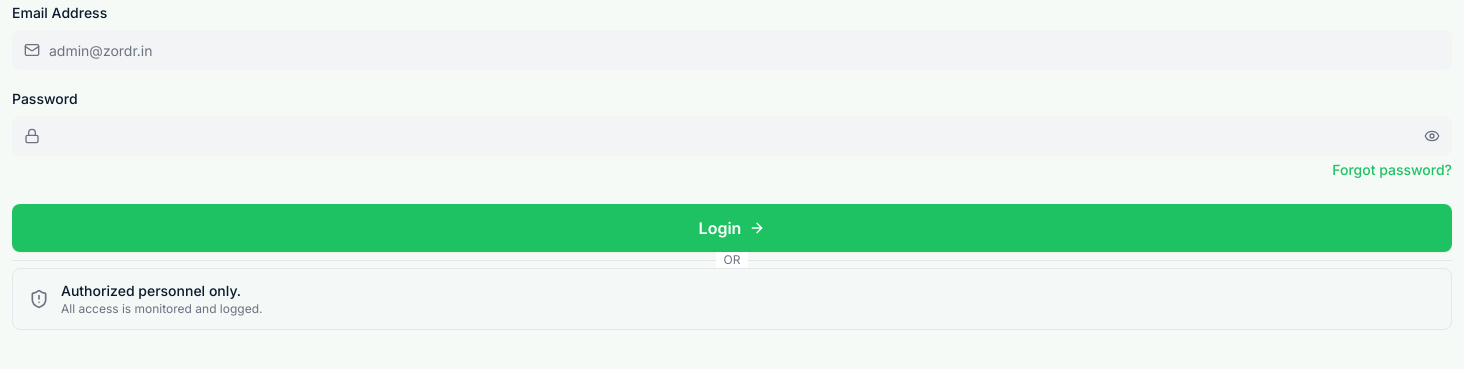
LoginForm › Validation errors › shows invalid email error for malformed email
Type "notanemail" into the field labelled "Email Address". click: {"x": 732, "y": 50}
box: [12,30,1452,70]
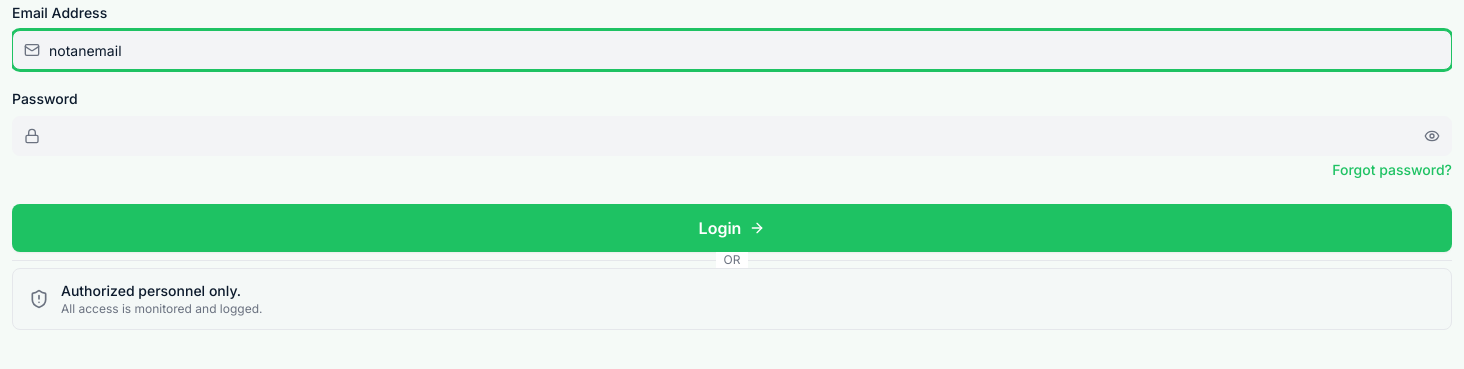
Press Tab
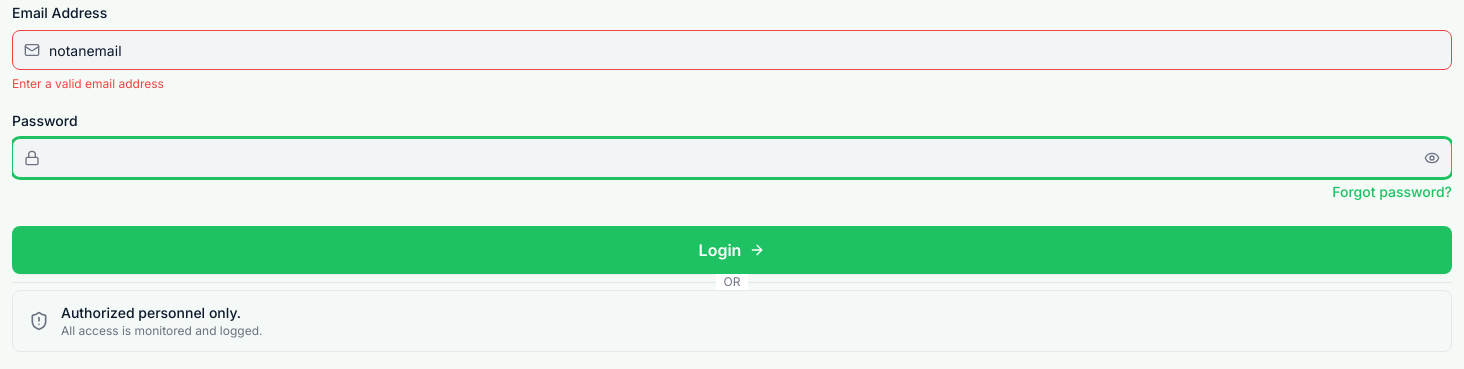
Expected: the text "Enter a valid email address" is shown, [12,76,164,91]
